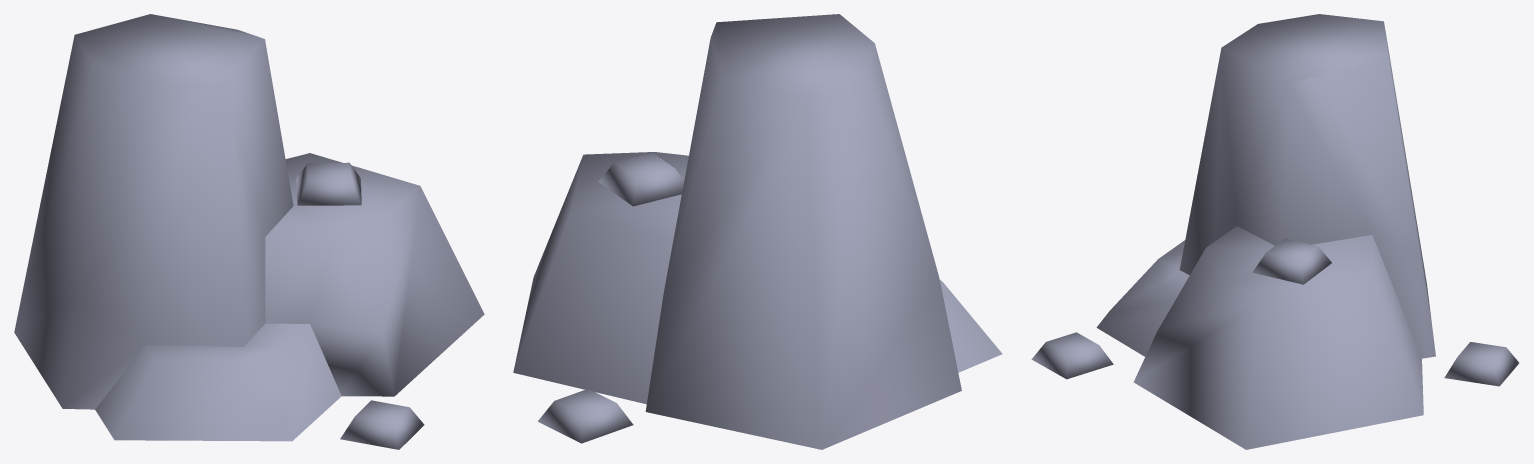
The model's file is kenney_survival-kit__rock-a.fbx.
3 renders of one model, left to right at view 1: azimuth 30°, elevation 25°; view 2: azimuth 150°, elevation 25°; view 3: azimuth 270°, elevation 25°, orthographic. The views are drawn at different scales.
Parts seen in each view (by area): view 1: kenney_survival-kit__rock-a__cave_stone; view 2: kenney_survival-kit__rock-a__cave_stone; view 3: kenney_survival-kit__rock-a__cave_stone.
Boxes of the visible parts, x1,y1,x2,y2 form: kenney_survival-kit__rock-a__cave_stone: (14,14,484,449); kenney_survival-kit__rock-a__cave_stone: (513,14,1002,449); kenney_survival-kit__rock-a__cave_stone: (1031,14,1519,449).
Size of the model in its own units: 1.98 by 1.4 by 2.22.
